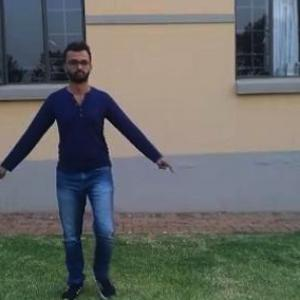land: (0, 45, 167, 298)
